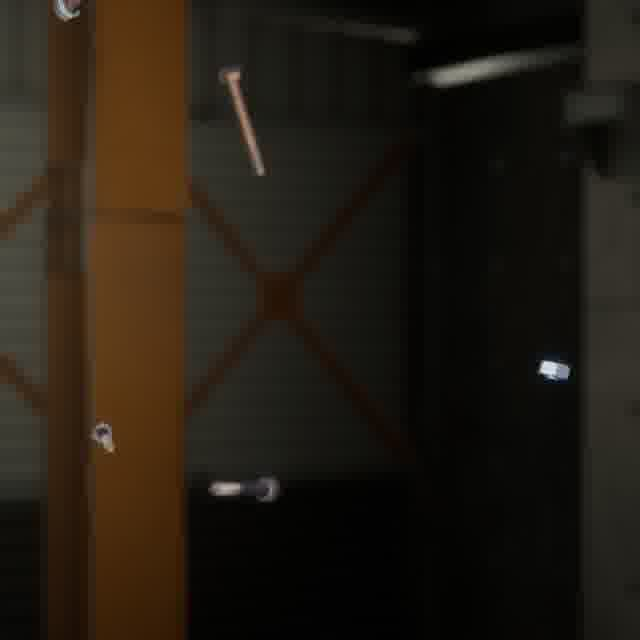bolt: (213, 61, 270, 180), (204, 472, 284, 505), (87, 416, 119, 457), (49, 0, 94, 27)
nut: (533, 355, 574, 385)
